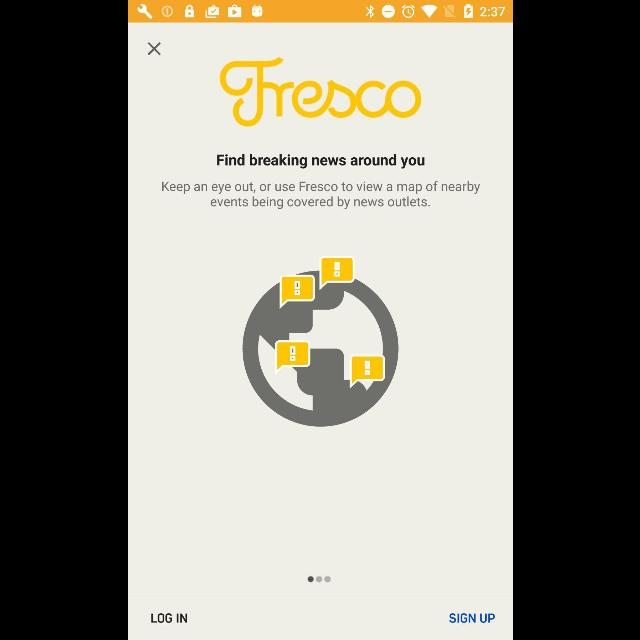icon: (146, 42, 160, 56)
image: (240, 256, 398, 427), (219, 57, 421, 127)
pageindicator: (307, 576, 331, 582)
text: (161, 180, 479, 210), (216, 153, 424, 169), (448, 613, 494, 623), (151, 613, 187, 623)
uppertaskbar: (128, 1, 512, 23)
